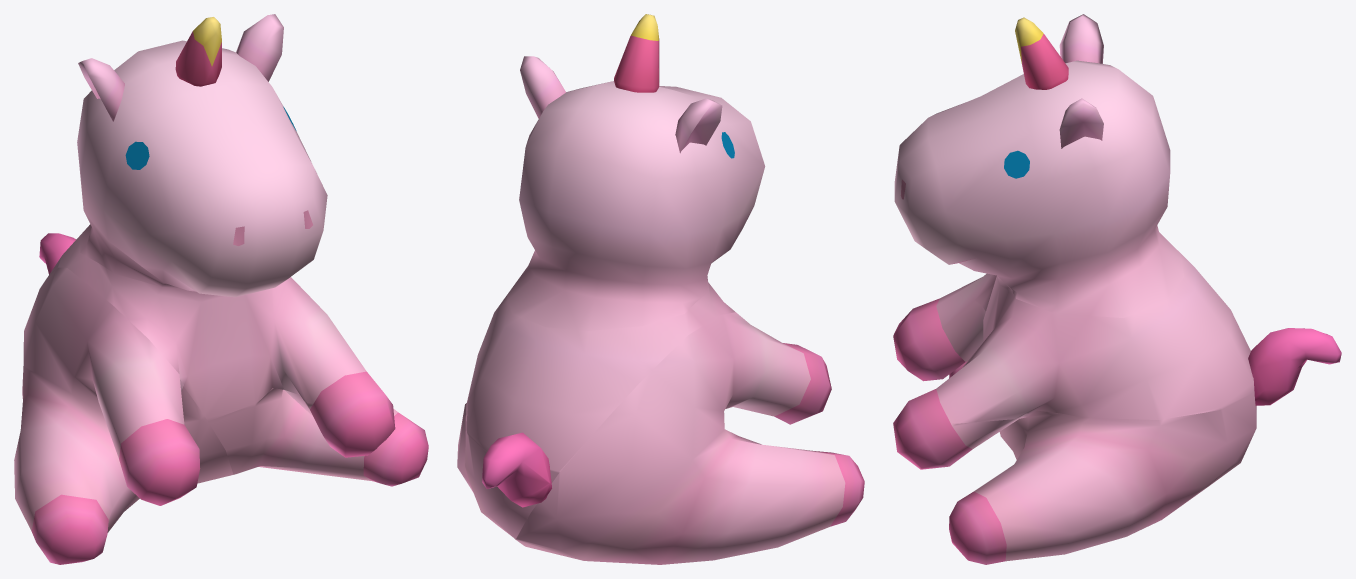
The model's file is Unicorn brealk.fbx.
The picture shows the model from 3 angles, left to right: view 1: azimuth 30°, elevation 25°; view 2: azimuth 150°, elevation 25°; view 3: azimuth 270°, elevation 25°; orthographic projection. The views are drawn at different scales.
Visible parts, largest first — view 1: Unicorn.008, Unicorn.005, Unicorn, Unicorn.009, Unicorn.001, Unicorn.002, Unicorn.004, Unicorn.003, Unicorn.007, Unicorn.006; view 2: Unicorn.008, Unicorn.005, Unicorn, Unicorn.006, Unicorn.009, Unicorn.007, Unicorn.001, Unicorn.004; view 3: Unicorn.008, Unicorn, Unicorn.009, Unicorn.006, Unicorn.002, Unicorn.001, Unicorn.003, Unicorn.005, Unicorn.007.
Part boxes in pixels (x1,y1,x2,y2): Unicorn.008: [77, 14, 327, 297]; Unicorn.005: [14, 267, 233, 532]; Unicorn: [53, 235, 366, 421]; Unicorn.009: [208, 388, 397, 481]; Unicorn.001: [119, 419, 200, 505]; Unicorn.002: [310, 371, 395, 457]; Unicorn.004: [31, 494, 108, 564]; Unicorn.003: [363, 412, 428, 486]; Unicorn.007: [175, 17, 221, 86]; Unicorn.006: [39, 233, 75, 274]; Unicorn.008: [507, 56, 765, 330]; Unicorn.005: [516, 312, 845, 564]; Unicorn: [466, 276, 734, 482]; Unicorn.006: [482, 432, 551, 507]; Unicorn.009: [457, 398, 536, 539]; Unicorn.007: [614, 14, 659, 92]; Unicorn.001: [774, 343, 831, 424]; Unicorn.004: [815, 451, 864, 526]; Unicorn.008: [894, 14, 1184, 317]; Unicorn: [936, 253, 1254, 423]; Unicorn.009: [951, 391, 1256, 561]; Unicorn.006: [1248, 328, 1341, 405]; Unicorn.002: [893, 389, 972, 469]; Unicorn.001: [893, 298, 965, 381]; Unicorn.003: [949, 491, 1006, 564]; Unicorn.005: [936, 273, 1256, 486]; Unicorn.007: [1015, 17, 1068, 89].
Bounding box in the file's own units: 26.17 × 31.68 × 27.65.
